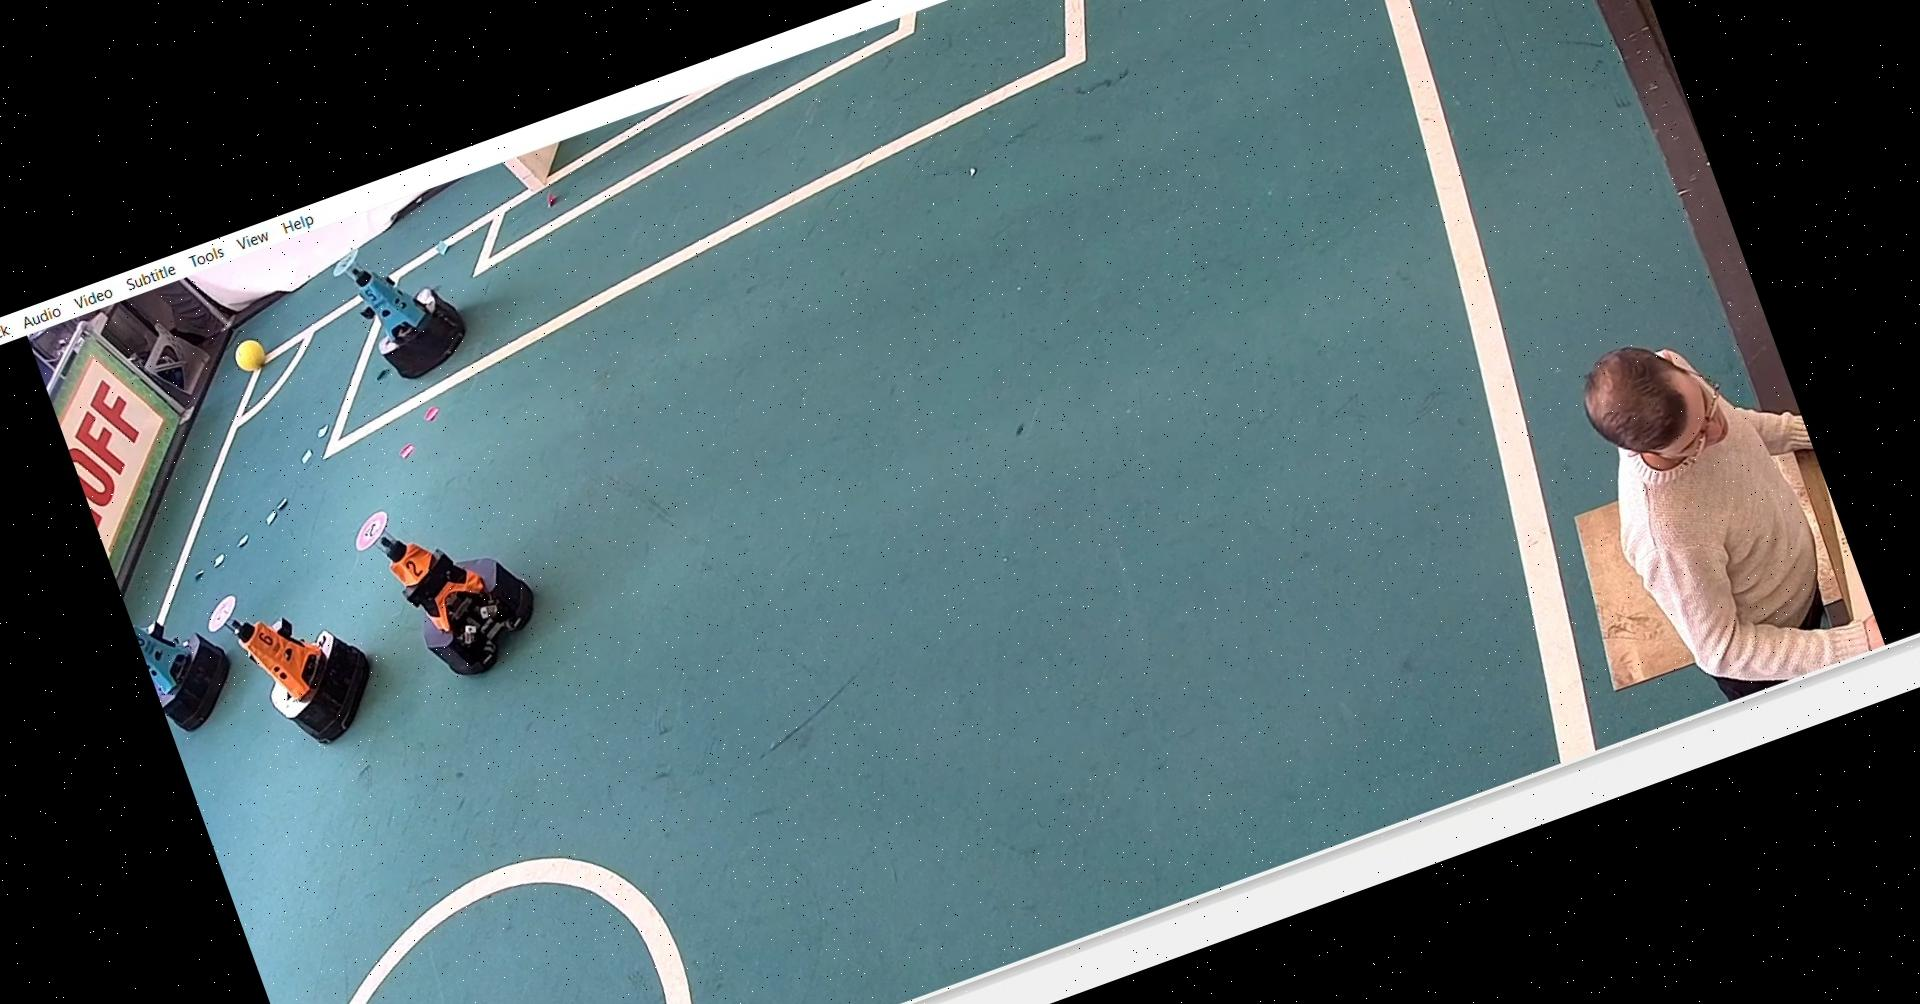Ball: (230, 331, 274, 374)
Team_Blue: (323, 218, 483, 393), (126, 576, 265, 739)
Team_Red: (342, 459, 555, 696), (198, 553, 386, 765)
